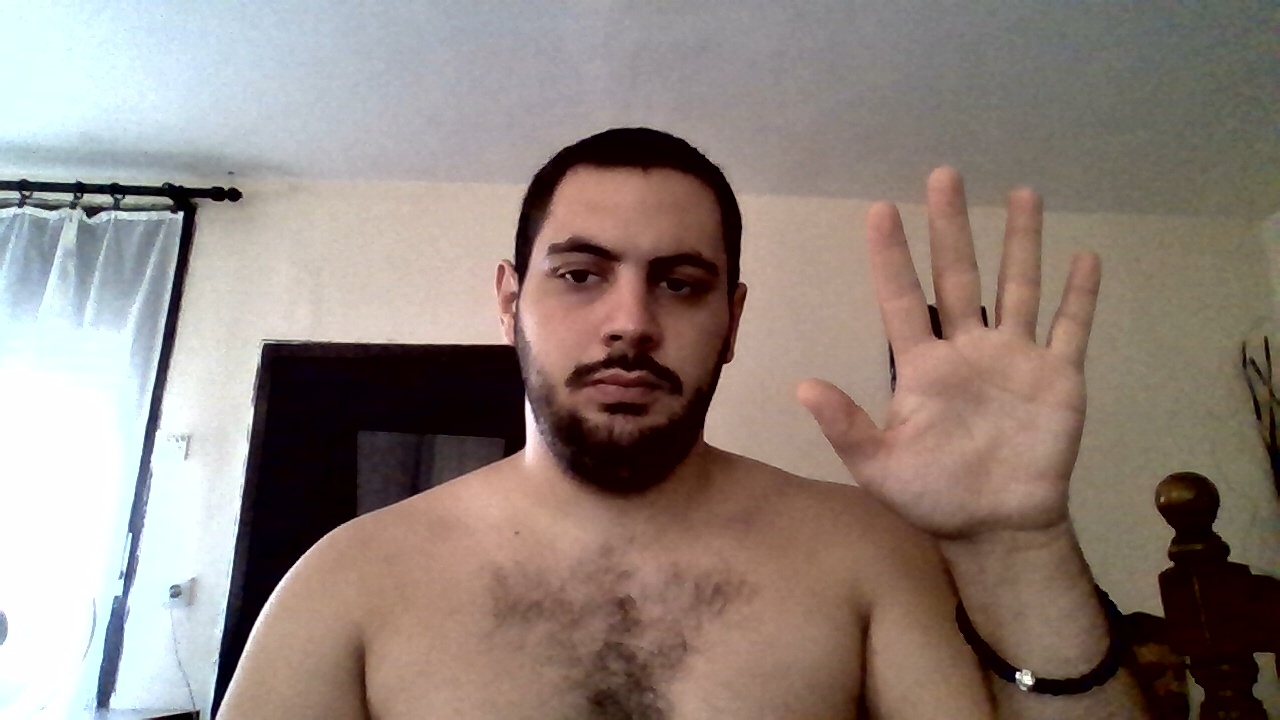palm: (799, 165, 1108, 533)
